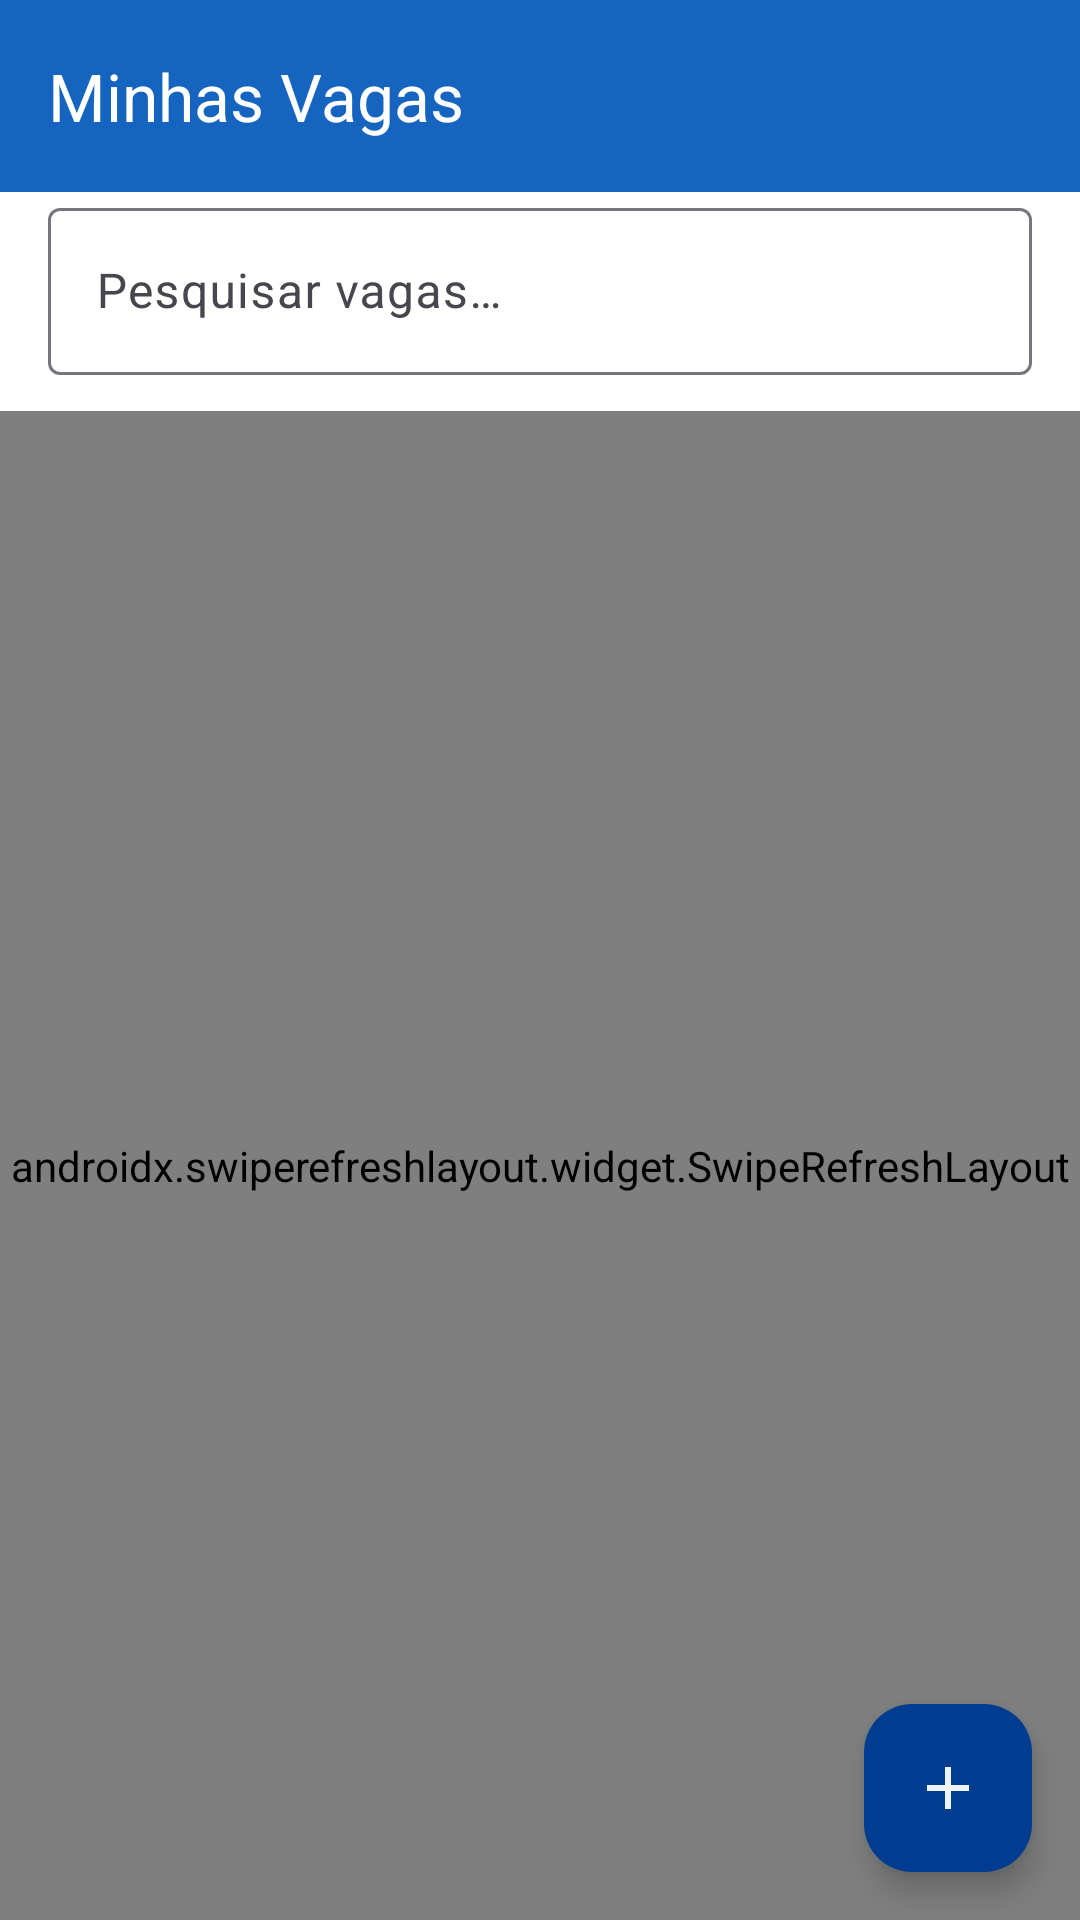

Named icons in this screenshot (1080×1920) and their centers, point (x, y):
Nova Vaga: point (948, 1788)
